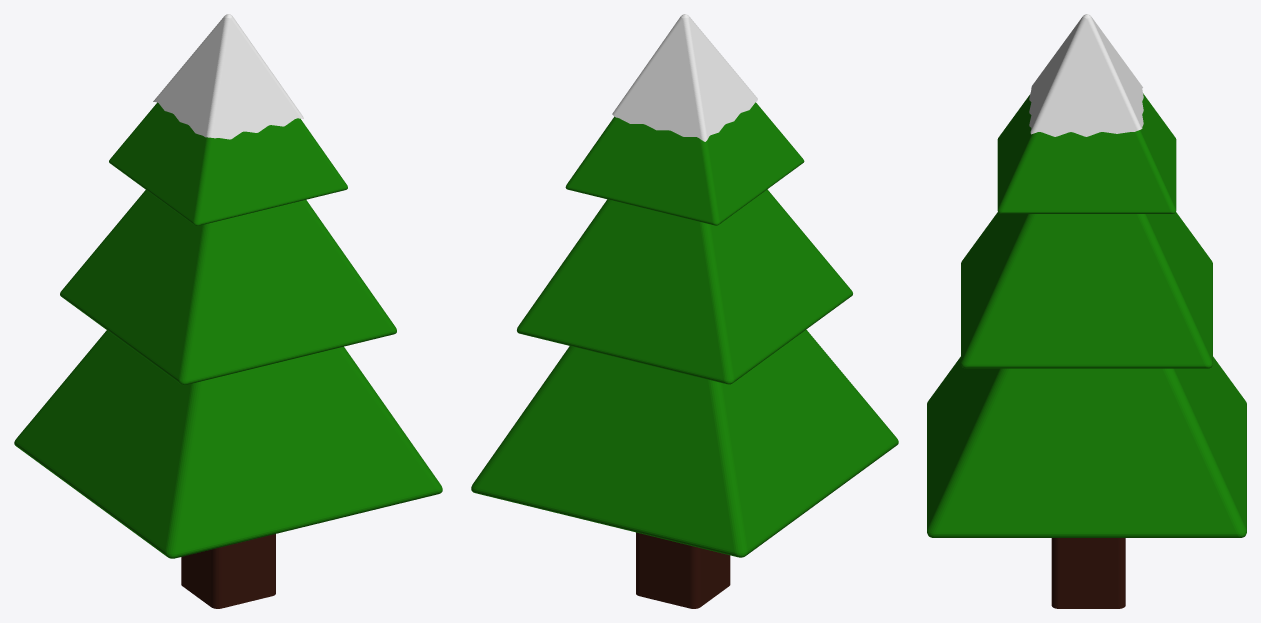
Rendered from Tree.fbx.
3 renders of one model, left to right at view 1: azimuth 30°, elevation 25°; view 2: azimuth 150°, elevation 25°; view 3: azimuth 270°, elevation 25°, orthographic.
Parts seen in each view (by area): view 1: Cube.001, Cube.002, Cube.005, Cube.000, Cube.003; view 2: Cube.001, Cube.002, Cube.005, Cube.000, Cube.003; view 3: Cube.001, Cube.002, Cube.005, Cube.000, Cube.003.
Part boxes in pixels (box(x1,y1,x2,y2)): Cube.001: box(14, 330, 442, 558); Cube.002: box(60, 190, 396, 385); Cube.005: box(109, 102, 347, 225); Cube.000: box(153, 14, 303, 139); Cube.003: box(181, 534, 275, 608); Cube.001: box(471, 329, 898, 557); Cube.002: box(517, 189, 852, 384); Cube.005: box(565, 102, 804, 225); Cube.000: box(612, 14, 757, 141); Cube.003: box(636, 532, 730, 608); Cube.001: box(927, 356, 1246, 537); Cube.002: box(961, 212, 1212, 368); Cube.005: box(997, 93, 1176, 213); Cube.000: box(1029, 14, 1143, 136); Cube.003: box(1051, 538, 1125, 608).
Bounding box in the file's own units: 199 × 396 × 199.
